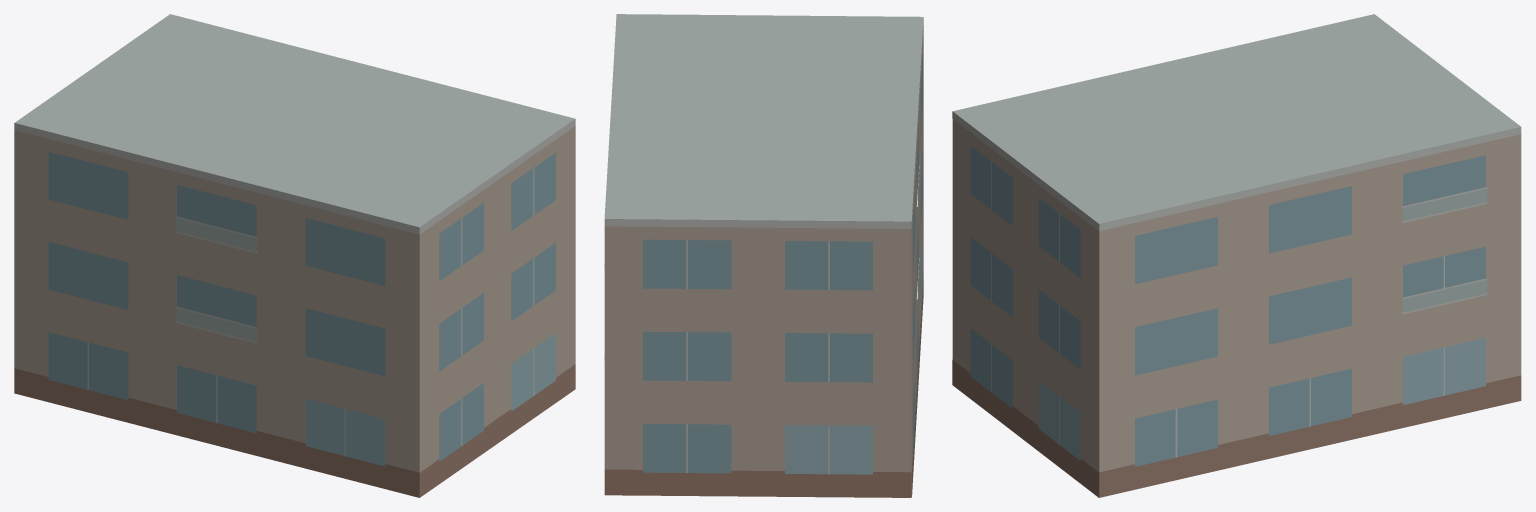
File: survey-upis-32707305.glb
3 views of the same model, side by side, from view 1: azimuth 30°, elevation 25°; view 2: azimuth 150°, elevation 25°; view 3: azimuth 270°, elevation 25° (orthographic). The views are drawn at different scales.
Parts seen in each view (by area): view 1: survey-upis-32707305.tmp; view 2: survey-upis-32707305.tmp; view 3: survey-upis-32707305.tmp.
Boxes of the visible parts, x1,y1,x2,y2 form: survey-upis-32707305.tmp: (14, 14, 575, 497); survey-upis-32707305.tmp: (604, 14, 923, 497); survey-upis-32707305.tmp: (952, 14, 1521, 497).
Size of the model in its own units: 15.06 by 9.15 by 17.23.
